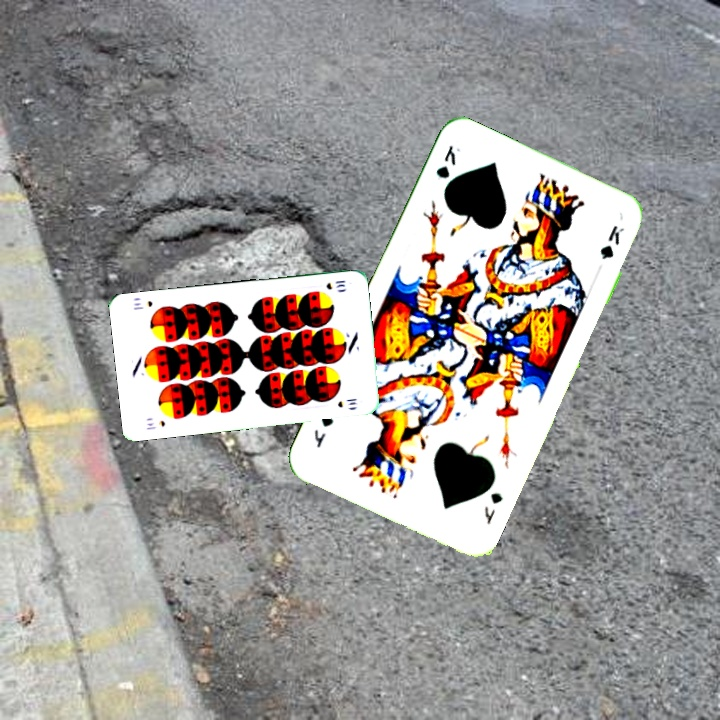GK: (432, 141, 463, 181), (480, 488, 506, 527)
S10: (322, 276, 348, 292), (143, 416, 167, 432)
